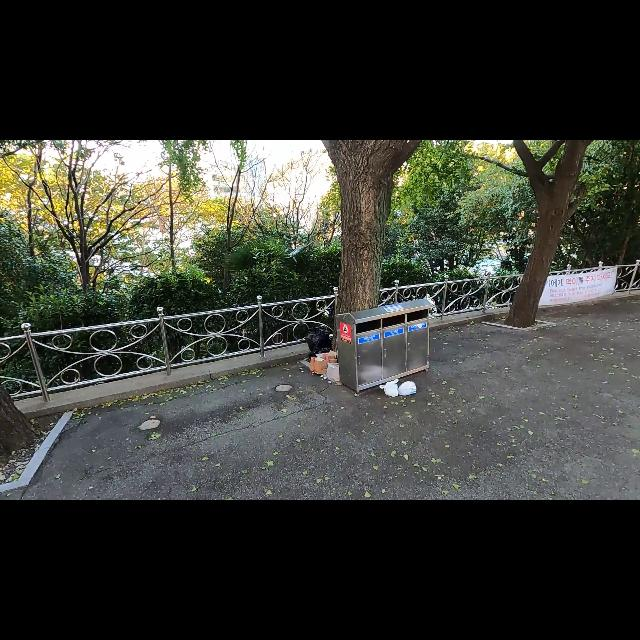trash: (303, 326, 331, 349), (309, 357, 337, 375), (378, 379, 399, 396), (397, 381, 418, 397), (308, 349, 332, 363), (326, 362, 340, 382), (317, 352, 335, 360)
